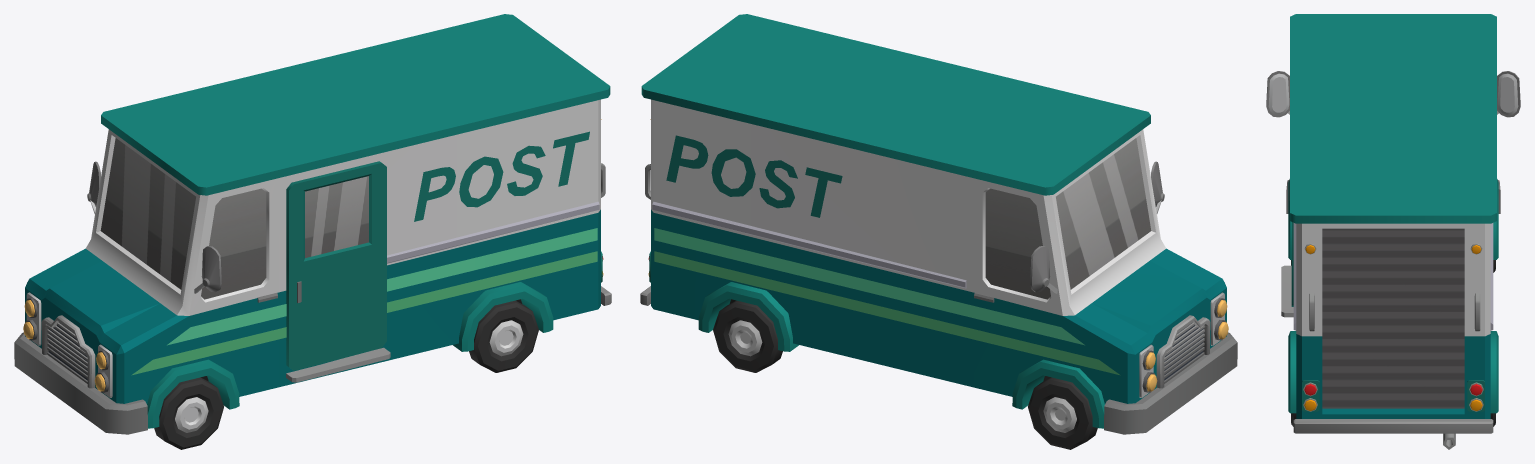
Rendered from PostCar_1_B.gltf.
The picture shows the model from 3 angles, left to right: view 1: azimuth 30°, elevation 25°; view 2: azimuth 150°, elevation 25°; view 3: azimuth 270°, elevation 25°; orthographic projection.
Parts seen in each view (by area): view 1: PostCar_1_B, RL, FL; view 2: PostCar_1_B, RR, FR; view 3: PostCar_1_B.
Part boxes in pixels (box(x1,y1,x2,y2)): PostCar_1_B: box(14, 14, 611, 434); RL: box(469, 300, 538, 372); FL: box(154, 377, 223, 449); PostCar_1_B: box(640, 14, 1237, 434); RR: box(713, 300, 782, 372); FR: box(1028, 377, 1097, 449); PostCar_1_B: box(1266, 14, 1520, 449).
Bounding box in the file's own units: 4.14 × 2.02 × 1.8.
5 materials, 5 textured.
